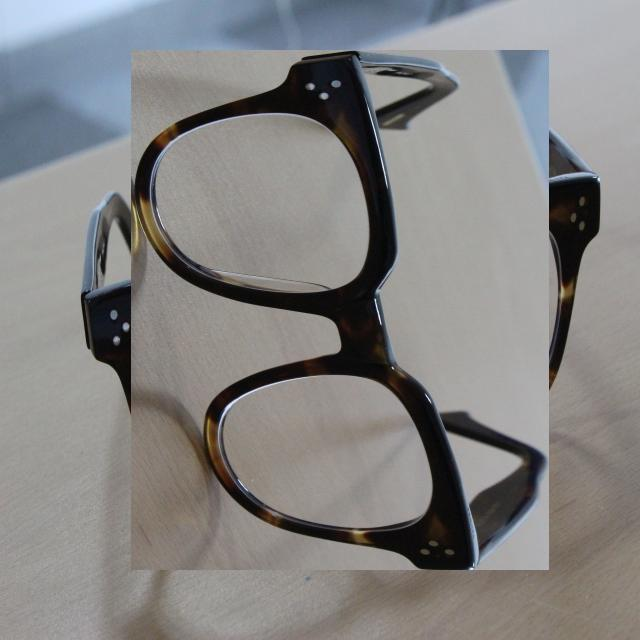glasses: (106, 76, 574, 545)
